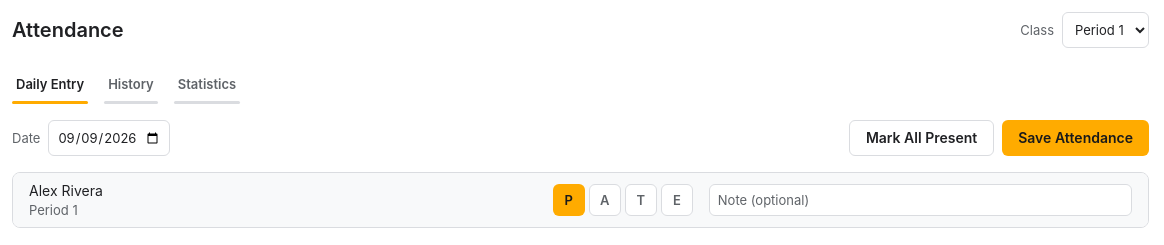
Test: AttendancePage entry view › loads recorded data when a past date is selected
expect the button "Alex Rivera" is shown: met, box [29,181,103,201]
Type "2022-01-03" into the date field named "Attendance date" at (109, 138), box [48,120,170,156]
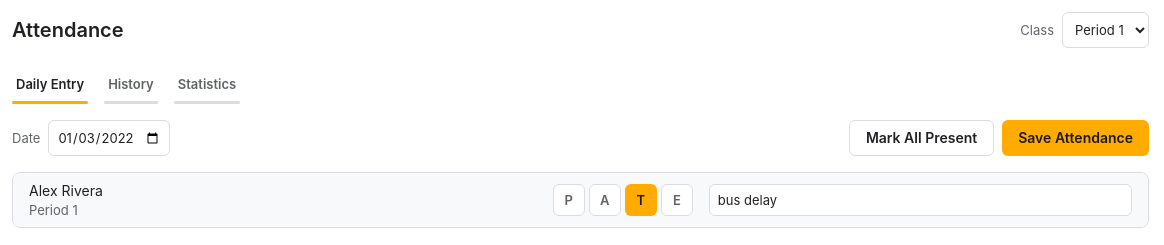
expect the field named "Note for Alex Rivera" holds "bus delay": met, box [709,184,1132,216]
